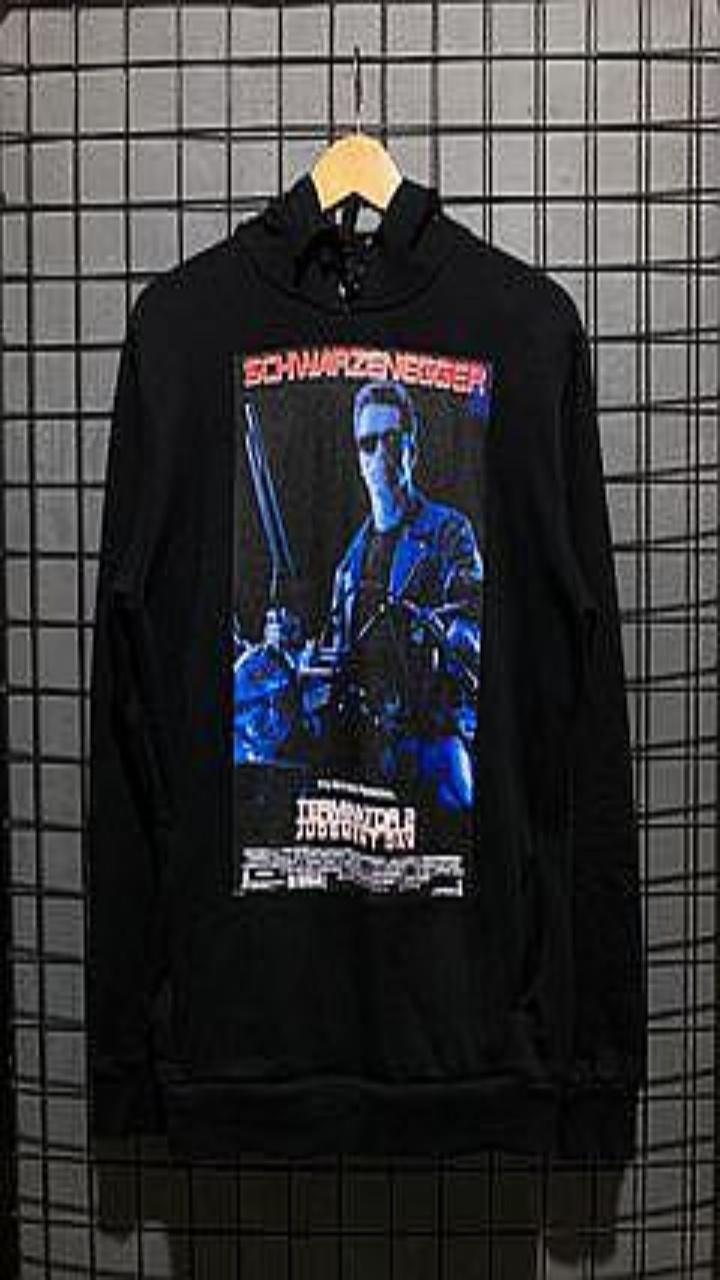Hoodie: (87, 175, 645, 1158)
